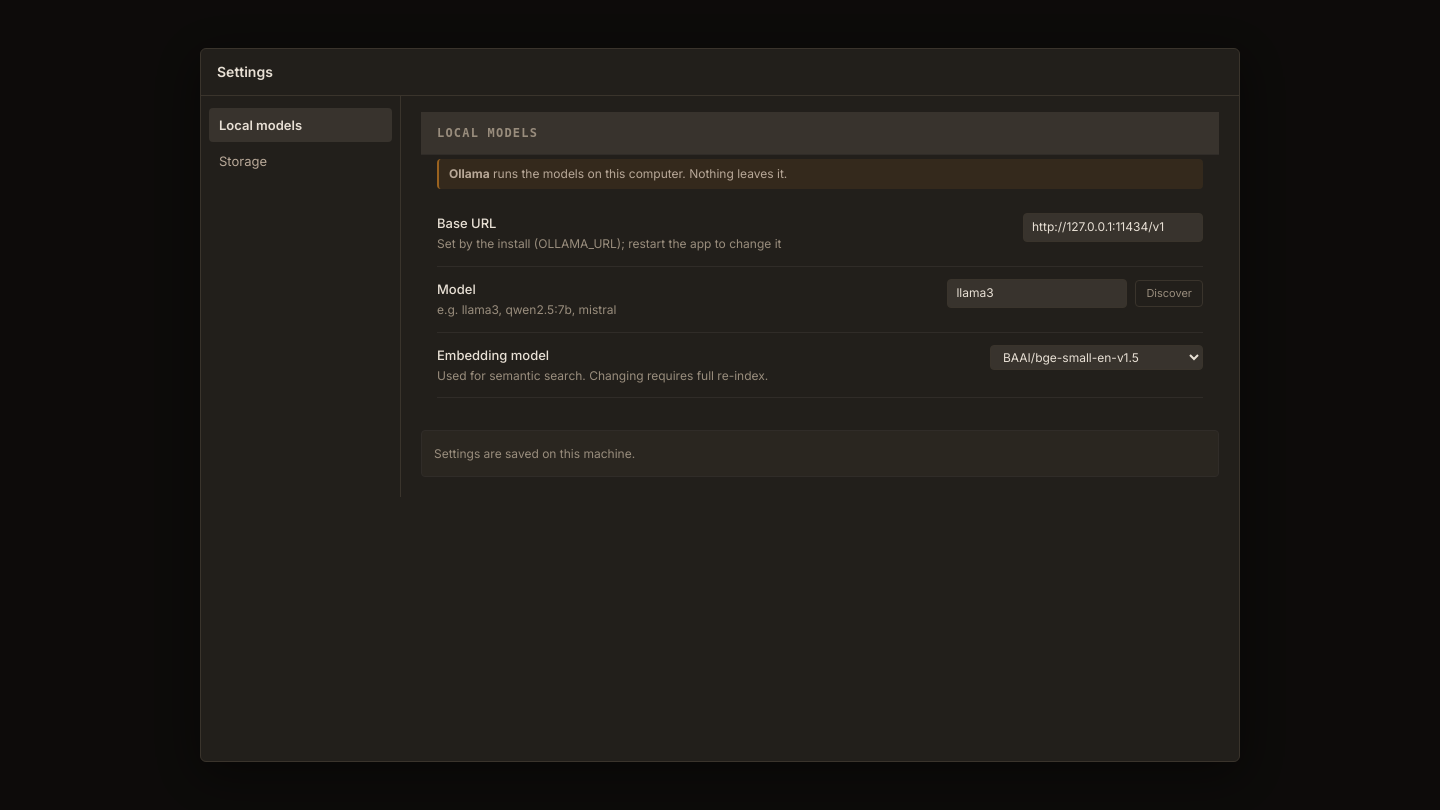
Test: SettingsWindow content › shows no cloud provider or Pillar-43 text in any group
Expected: the heading "Local models" is shown, x1=421 y1=112 x2=1219 y2=155
Click the button "Local models" at x=300, y=125, box x1=209 y1=108 x2=392 y2=142
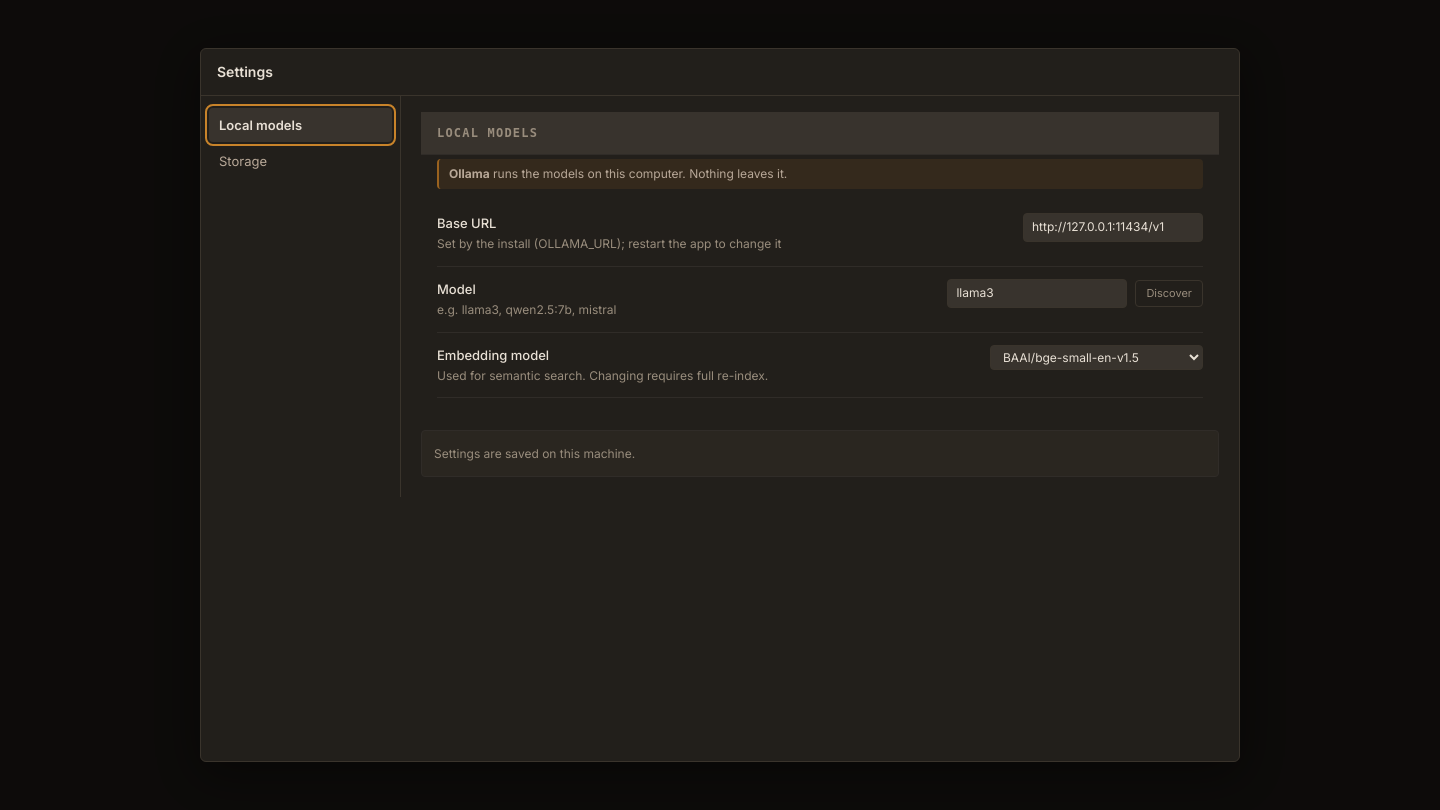
Expected: the heading "Local models" is shown, x1=421 y1=112 x2=1219 y2=155
Click the button "Storage" at x=300, y=161, box x1=209 y1=144 x2=392 y2=178
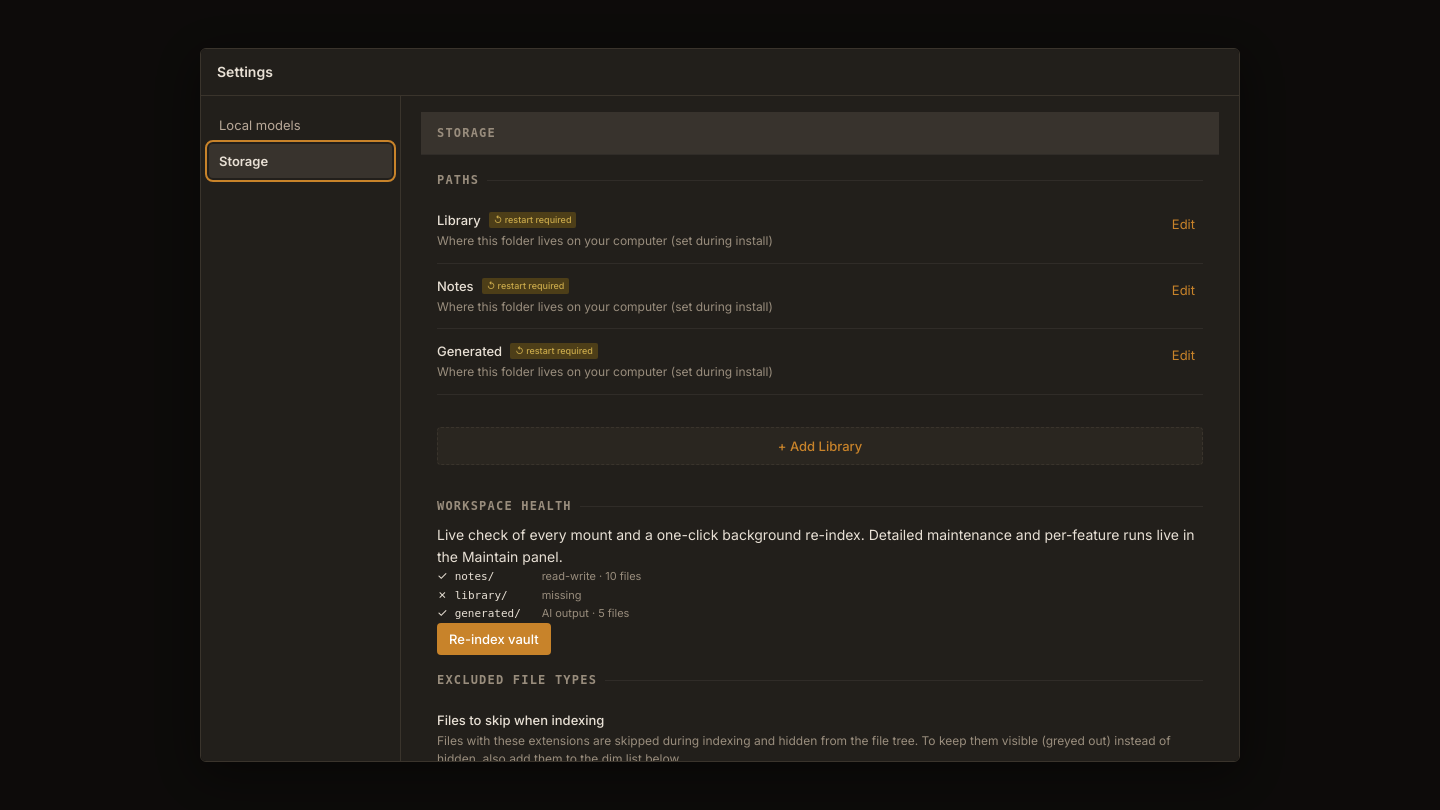
Expected: the heading "Storage" is shown, x1=421 y1=112 x2=1219 y2=155
